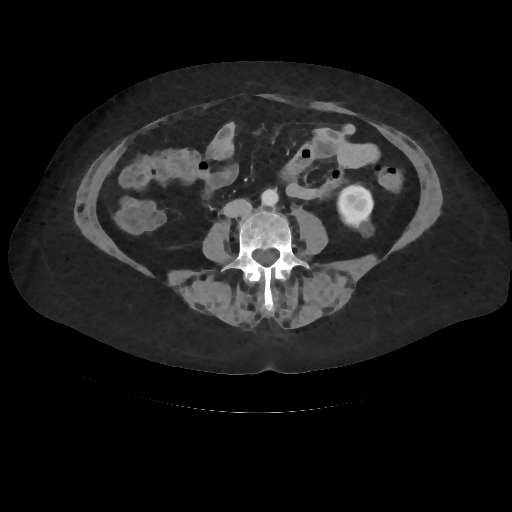Lesion: (355, 215, 377, 243)
